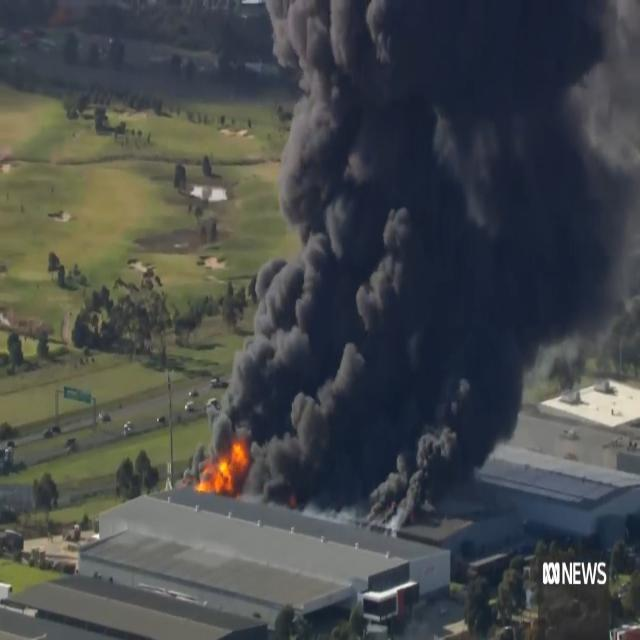fire: (204, 438, 250, 492)
